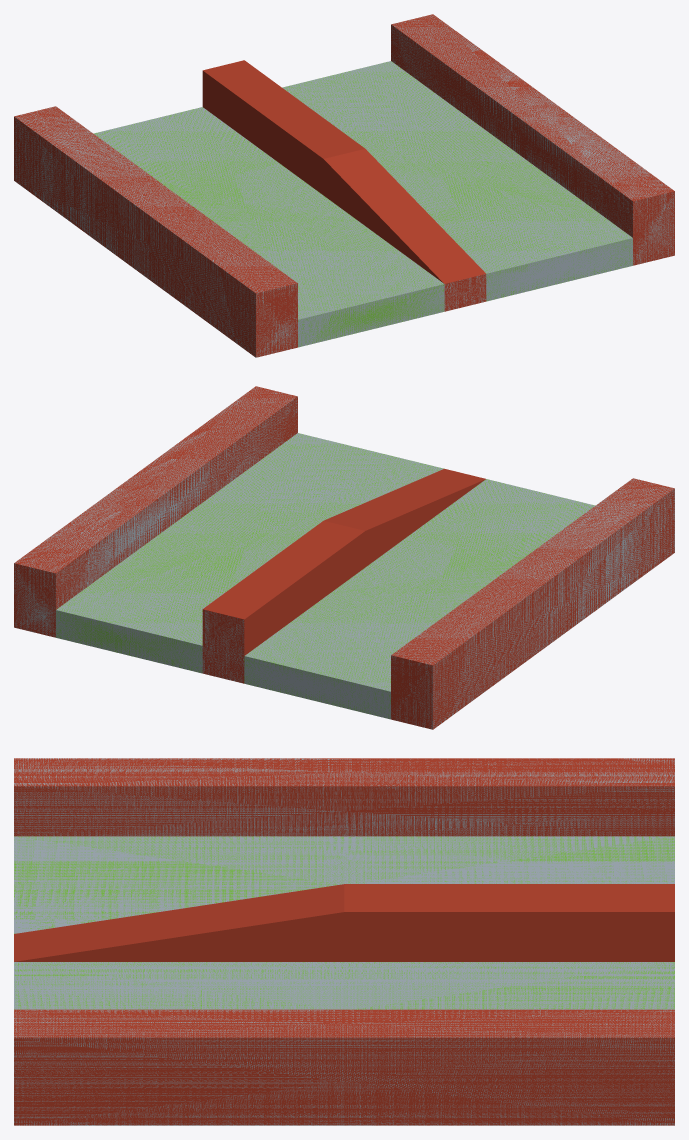
File: Split_start_01.obj
3 renders of one model, top to bottom at view 1: azimuth 30°, elevation 25°; view 2: azimuth 150°, elevation 25°; view 3: azimuth 270°, elevation 25°, orthographic. The views are drawn at different scales.
Visible parts, largest first — view 1: Mesh1 Split_start Model; view 2: Mesh1 Split_start Model; view 3: Mesh1 Split_start Model.
Part boxes in pixels (x1=…): Mesh1 Split_start Model: x1=14, y1=14, x2=674, y2=357; Mesh1 Split_start Model: x1=14, y1=386, x2=674, y2=729; Mesh1 Split_start Model: x1=14, y1=758, x2=674, y2=1125.
Bounding box in the file's own units: 3 × 0.44 × 3.
